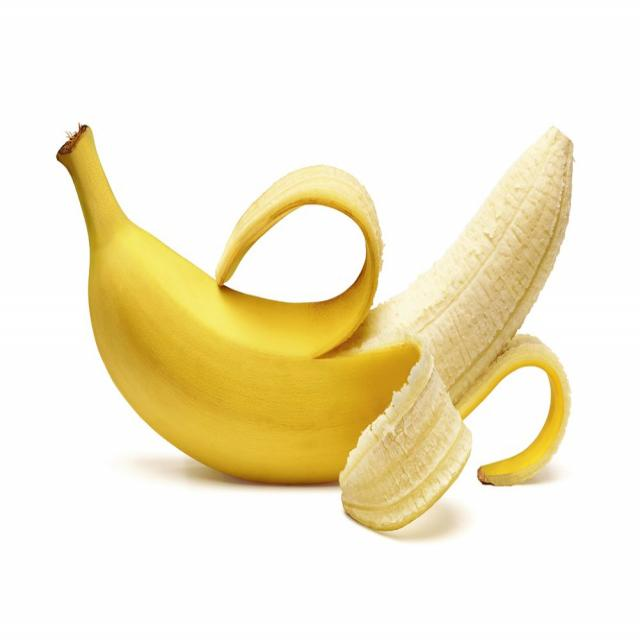banana: (51, 103, 583, 532)
